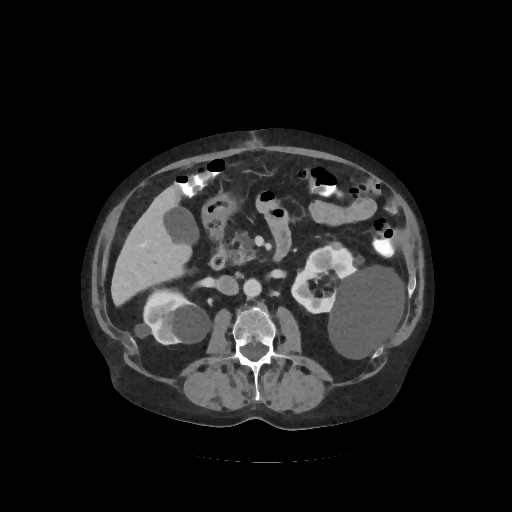Lesion: (328, 239, 345, 253)
